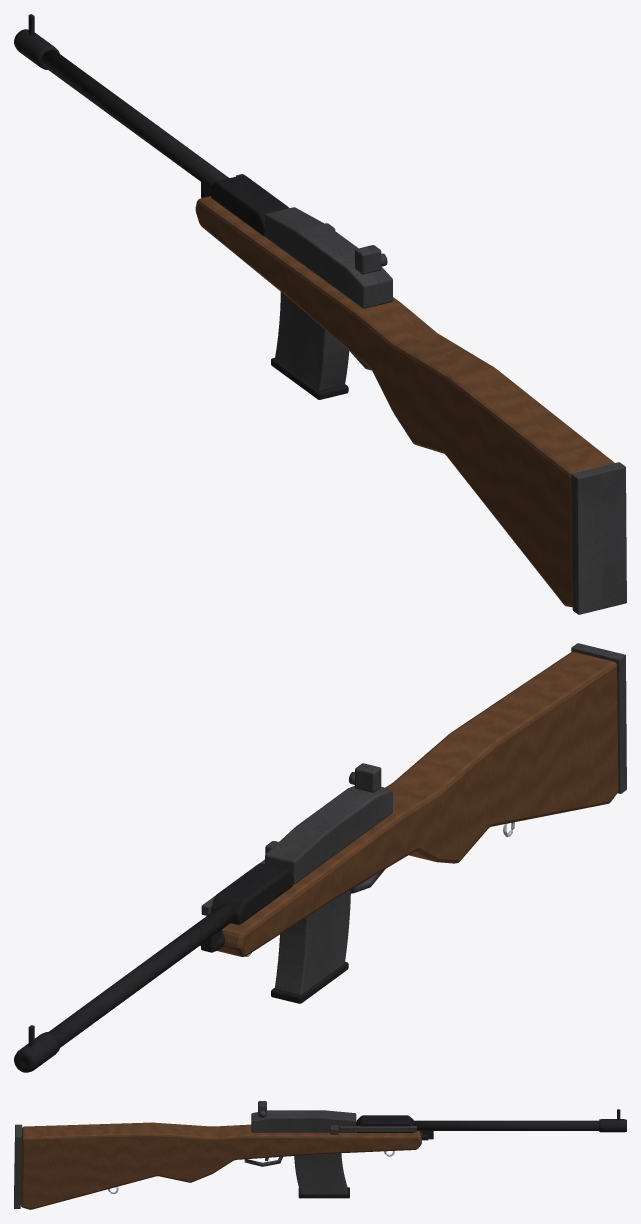
The model's file is marksman_308.glb.
The picture shows the model from 3 angles, top to bottom: view 1: azimuth 30°, elevation 25°; view 2: azimuth 150°, elevation 25°; view 3: azimuth 270°, elevation 25°; orthographic projection. The views are drawn at different scales.
Parts seen in each view (by area): view 1: stock, buttplate, receiver, barrel, mag, handguard, flash; view 2: stock, receiver, mag, barrel, handguard, buttplate, flash, mag_base, rsight; view 3: stock, receiver, barrel, mag, handguard, buttplate, oprod, flash, mag_base, guard.
Boxes of the visible parts, left/top/right/bottom form: stock: left=195, top=196, right=614, bottom=607; buttplate: left=571, top=462, right=626, bottom=614; receiver: left=265, top=207, right=392, bottom=308; barrel: left=41, top=49, right=229, bottom=188; mag: left=275, top=292, right=349, bottom=391; handguard: left=210, top=175, right=288, bottom=236; flash: left=14, top=29, right=59, bottom=69; stock: left=200, top=652, right=618, bottom=956; receiver: left=265, top=786, right=392, bottom=884; mag: left=275, top=889, right=350, bottom=994; barrel: left=49, top=904, right=232, bottom=1047; handguard: left=211, top=863, right=293, bottom=924; buttplate: left=571, top=643, right=626, bottom=793; flash: left=14, top=1032, right=60, bottom=1072; mag_base: left=271, top=962, right=348, bottom=1003; rsight: left=355, top=763, right=381, bottom=792; stock: left=20, top=1122, right=421, bottom=1209; receiver: left=251, top=1110, right=356, bottom=1132; barrel: left=411, top=1120, right=599, bottom=1130; mag: left=294, top=1153, right=347, bottom=1194; handguard: left=356, top=1115, right=413, bottom=1132; buttplate: left=14, top=1124, right=22, bottom=1208; oprod: left=339, top=1126, right=416, bottom=1132; flash: left=599, top=1119, right=626, bottom=1132; mag_base: left=298, top=1187, right=349, bottom=1198; guard: left=244, top=1156, right=282, bottom=1166.
Bounding box in the file's own units: 0.062 × 0.2023 × 1.11.
Materials: 5 (4 with a texture image).
